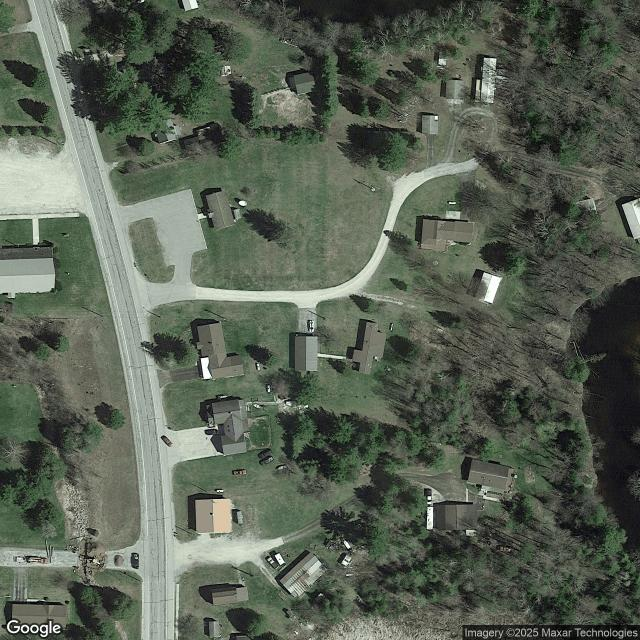Propane: (215, 488, 225, 493), (256, 363, 261, 372), (389, 323, 394, 331), (267, 385, 271, 394), (449, 201, 457, 204)
